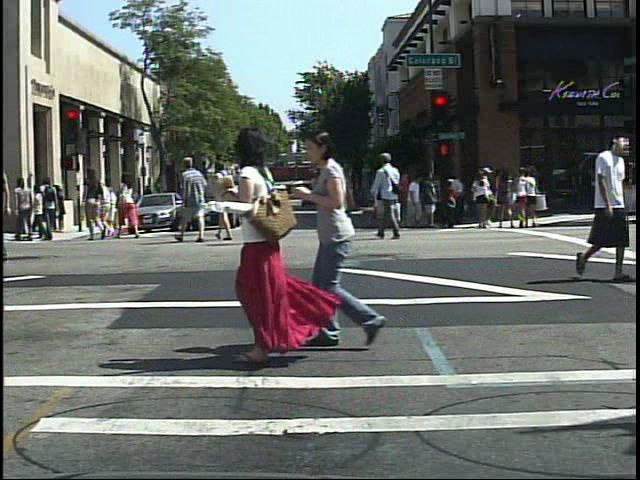person: (213, 126, 324, 368), (300, 121, 392, 353), (575, 123, 638, 285), (171, 153, 209, 245), (373, 149, 406, 241), (213, 155, 241, 245), (80, 166, 110, 241), (474, 164, 506, 232), (114, 168, 141, 242), (472, 167, 497, 234), (39, 175, 61, 243), (13, 176, 35, 242)
